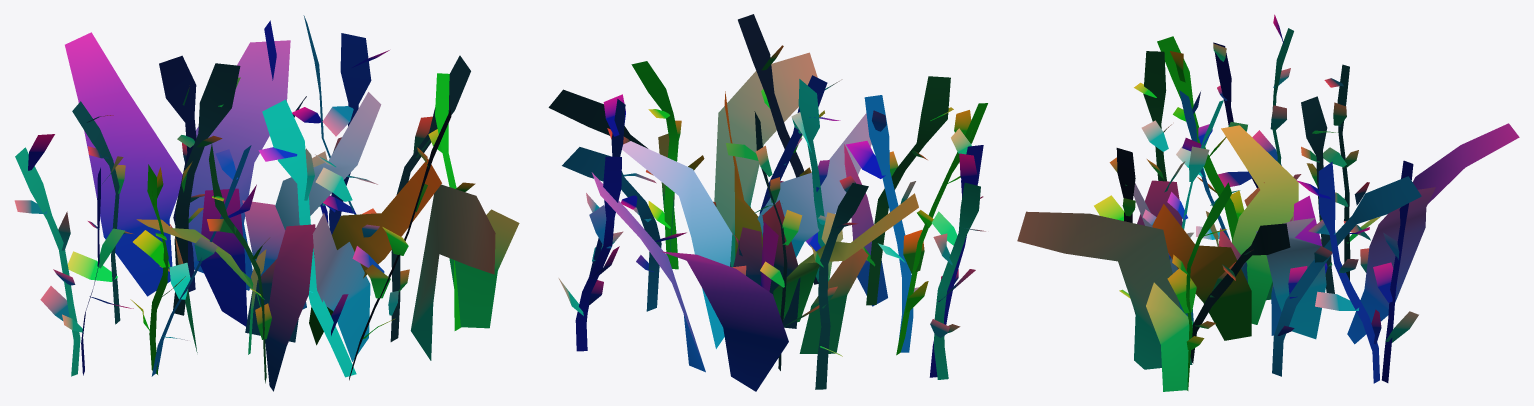
File: matted_pratia_e.fbx
3 views of the same model, side by side, from view 1: azimuth 30°, elevation 25°; view 2: azimuth 150°, elevation 25°; view 3: azimuth 270°, elevation 25° (orthographic). The views are drawn at different scales.
Parts seen in each view (by area): view 1: _9563_VarE_LOD1; view 2: _9563_VarE_LOD1; view 3: _9563_VarE_LOD1.
Boxes of the visible parts, <box> form: _9563_VarE_LOD1: <box>14,15,519,391</box>; _9563_VarE_LOD1: <box>548,14,987,391</box>; _9563_VarE_LOD1: <box>1017,14,1519,391</box>.
Size of the model in its own units: 13.9 by 7.79 by 14.98.
